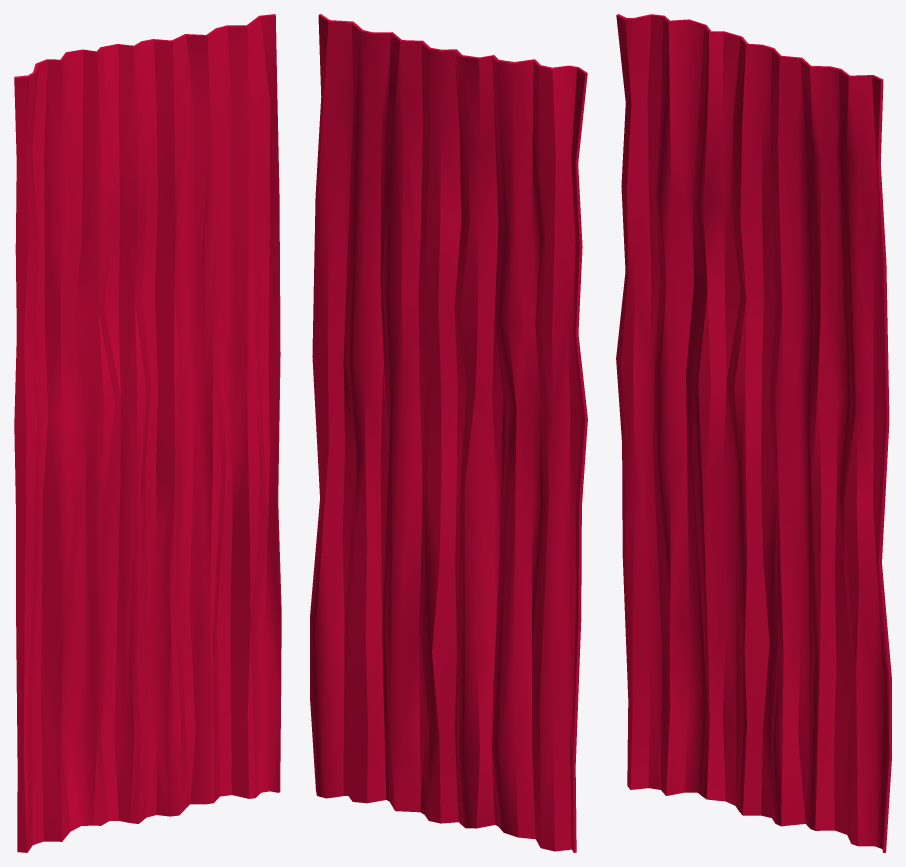
The model's file is panel4.fbx.
3 views of the same model, side by side, from view 1: azimuth 30°, elevation 25°; view 2: azimuth 150°, elevation 25°; view 3: azimuth 330°, elevation 25° (orthographic).
Visible parts, largest first — view 1: panel4; view 2: panel4; view 3: panel4.
Part boxes in pixels (box(x1,y1,x2,y2)): panel4: box(14, 14, 281, 852); panel4: box(310, 14, 587, 852); panel4: box(616, 14, 891, 852).
Bounding box in the file's own units: 0.5225 × 1.44 × 0.058.
